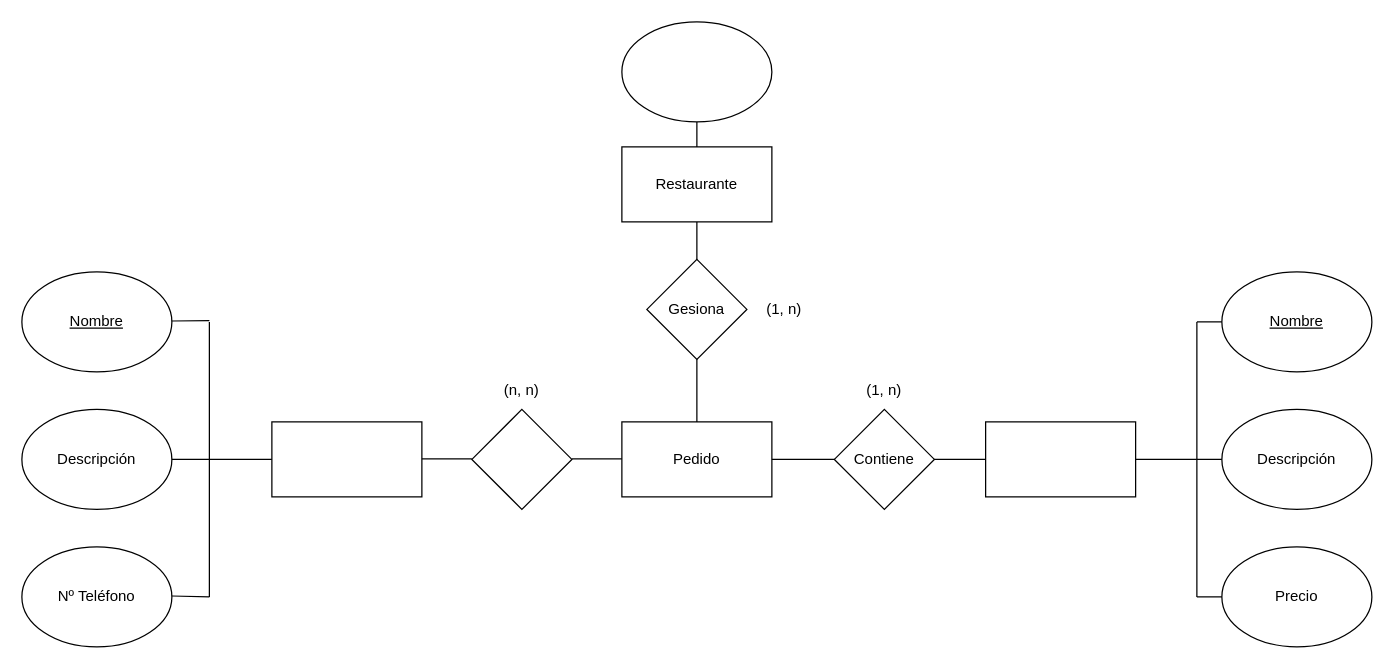
Some shapes in this 1394 by 669 pixel diagram are drawn without their labels. The centre of each missing label's shape, as x and y in pixels:
"Cliente(s)" belongs at point 346,459.
"ID Restaurante" belongs at point 696,71.
"Pedir" belongs at point 521,458.
"Plato(s)" belongs at point 1060,459.
